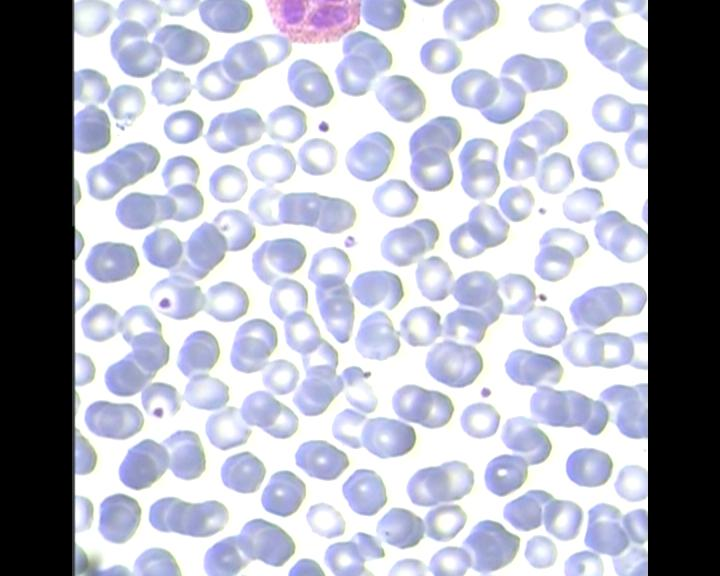eosi: (261, 0, 364, 44)
